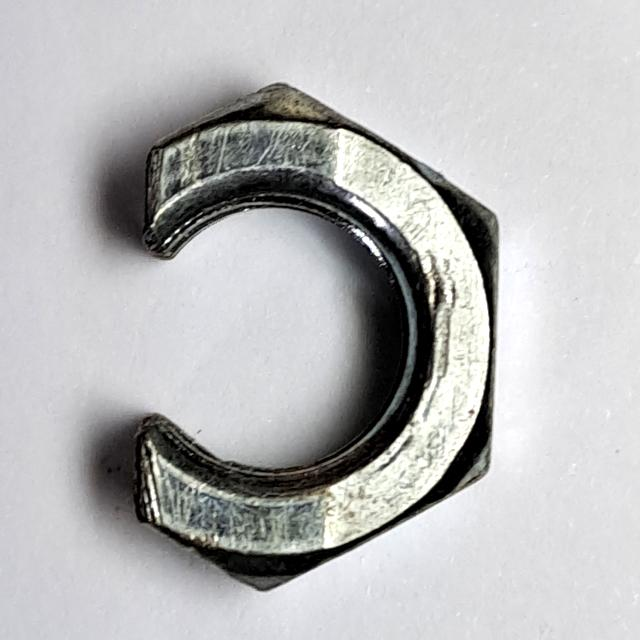Fracture: (115, 70, 516, 601)
